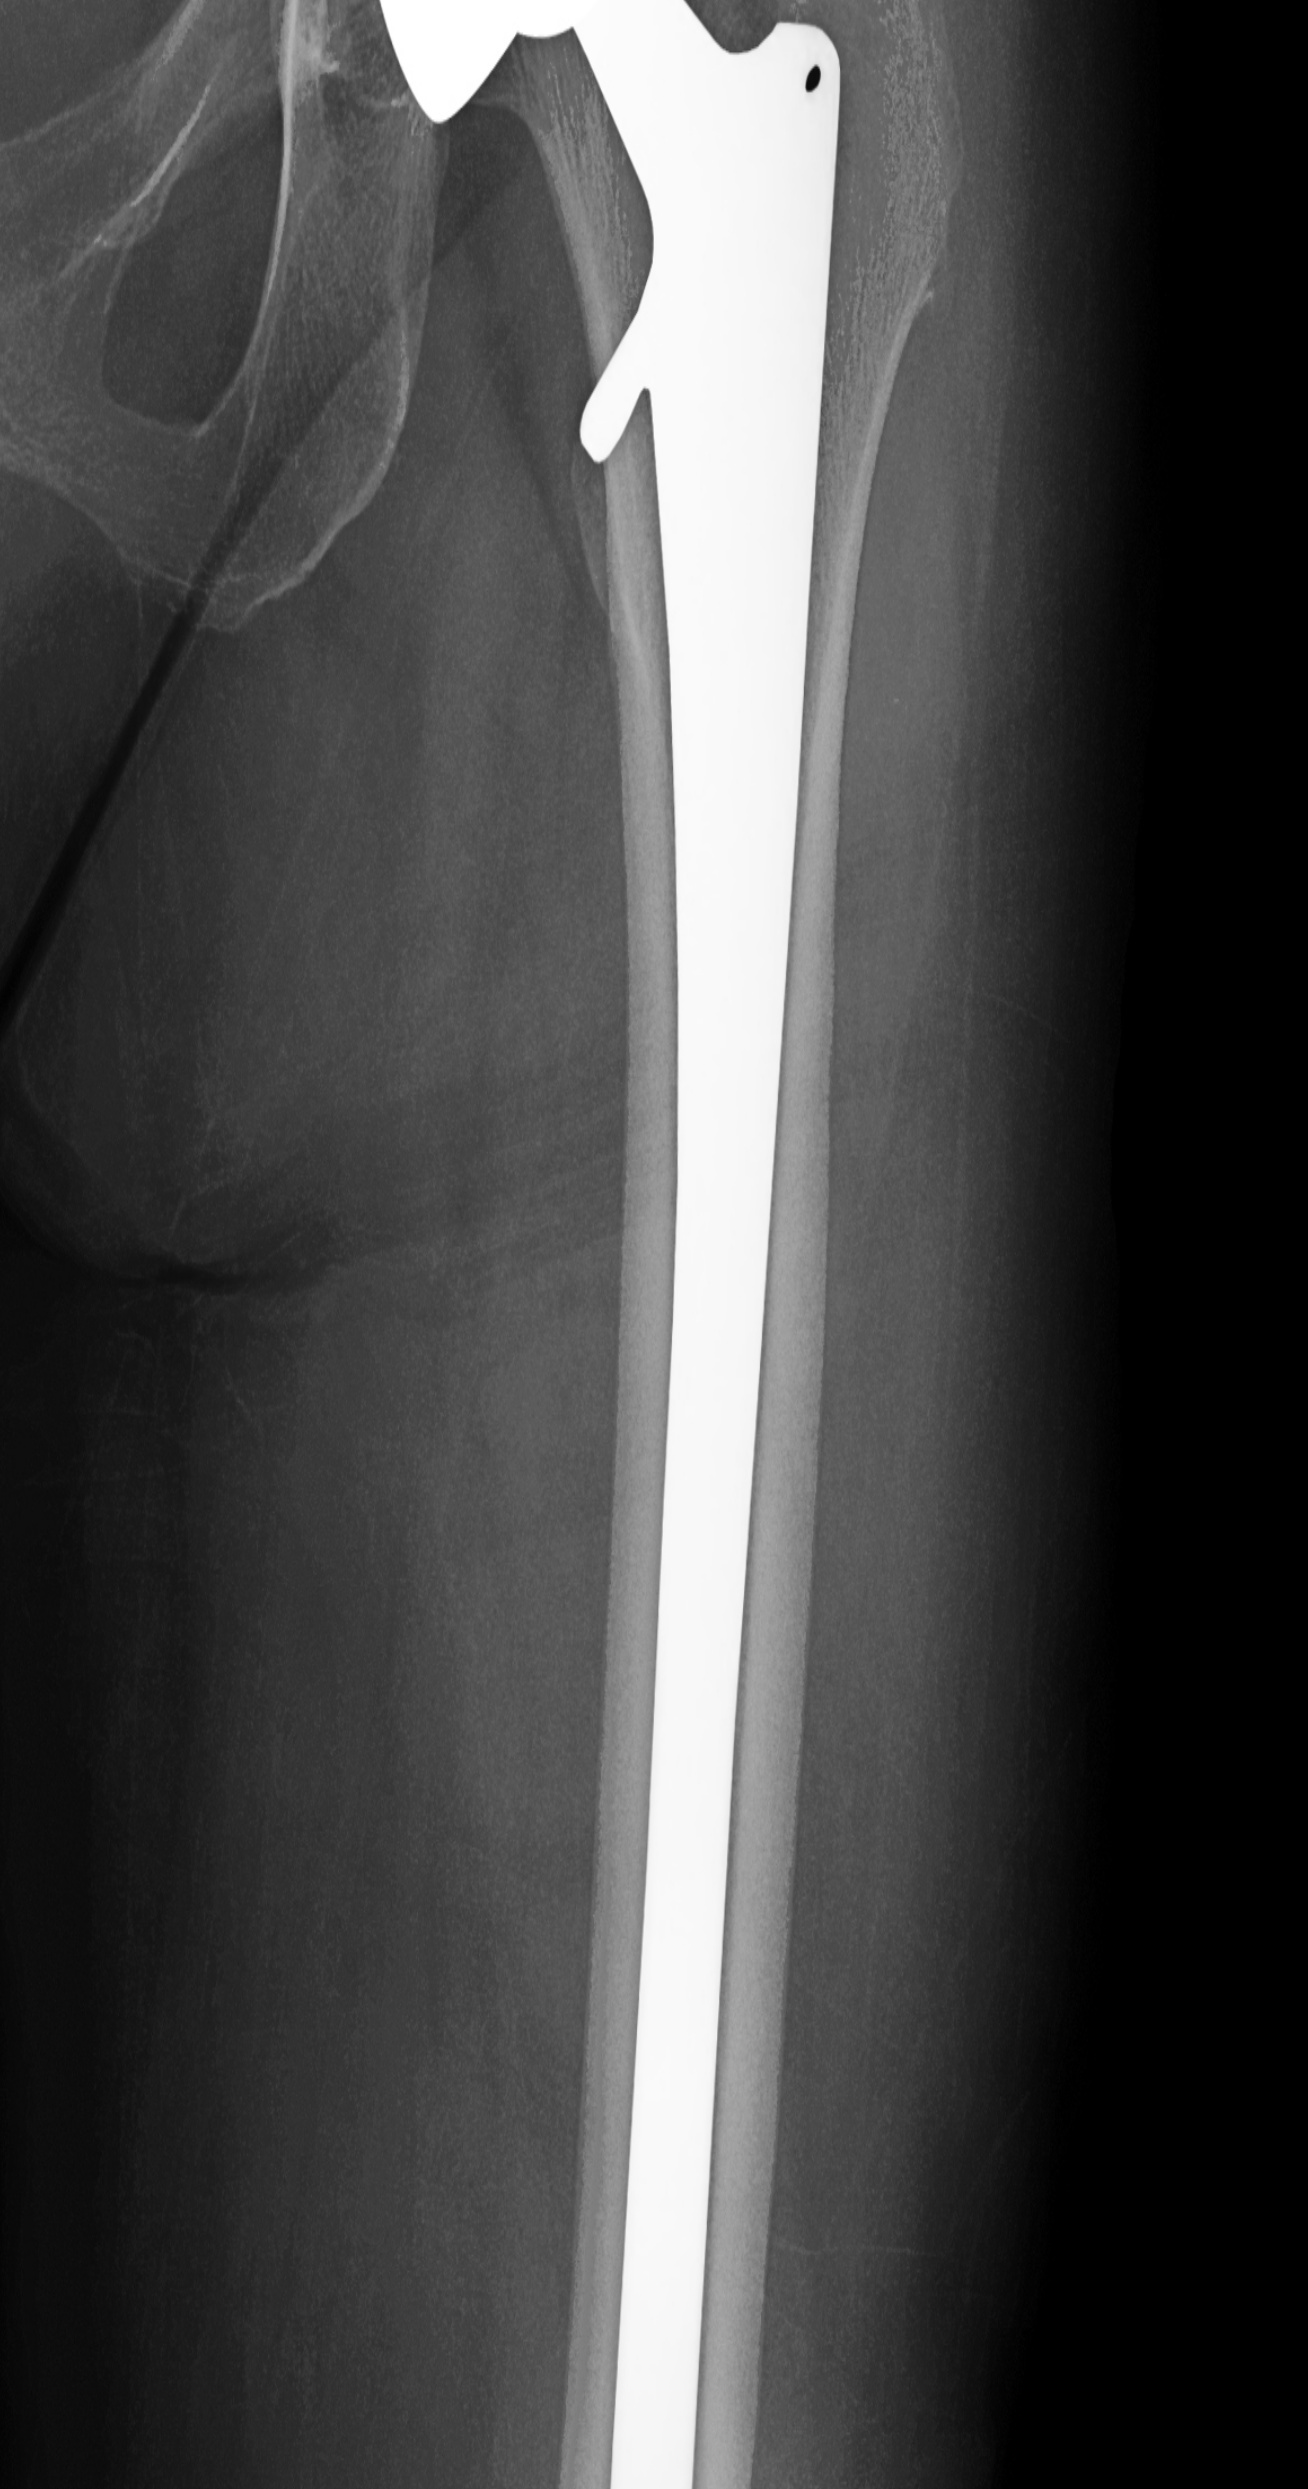Hip-Bias-Zimmer: (324, 5, 854, 2489)
